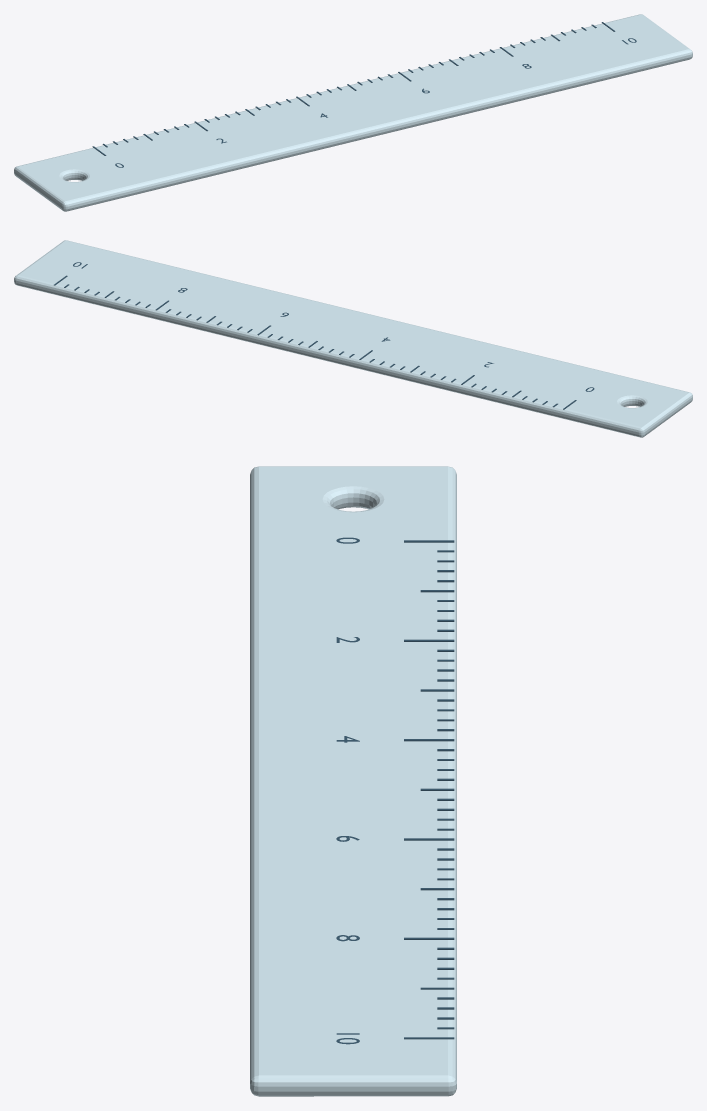
File: pmma-ruler.glb
The picture shows the model from 3 angles, top to bottom: view 1: azimuth 30°, elevation 25°; view 2: azimuth 150°, elevation 25°; view 3: azimuth 270°, elevation 25°; orthographic projection. The views are drawn at different scales.
Visible parts, largest first — view 1: pmma-ruler; view 2: pmma-ruler; view 3: pmma-ruler.
Part boxes in pixels (<box>): pmma-ruler: <box>14,14,692,211</box>; pmma-ruler: <box>14,240,692,437</box>; pmma-ruler: <box>250,466,456,1096</box>.
Size of the model in its own units: 0.26 by 0.00425 by 0.037.
